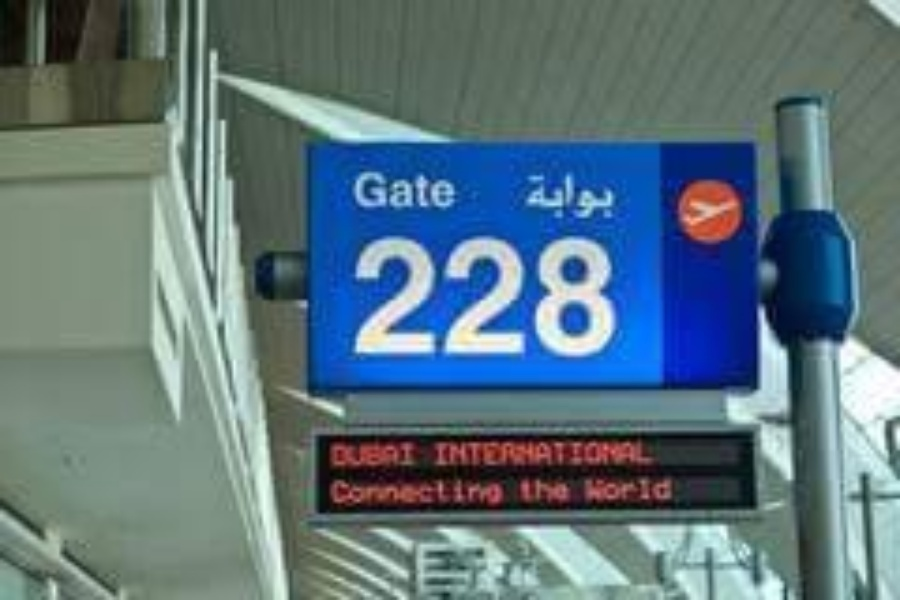text: (353, 233, 368, 361), (369, 233, 384, 361), (385, 233, 400, 361), (401, 233, 416, 361), (417, 233, 432, 361), (433, 233, 448, 361), (449, 233, 464, 361), (465, 233, 480, 361), (481, 233, 496, 361), (497, 233, 512, 361), (513, 233, 528, 361), (529, 233, 544, 361), (545, 233, 560, 361), (561, 233, 576, 361), (577, 233, 592, 361), (593, 233, 608, 361), (609, 233, 619, 361), (529, 169, 544, 222), (545, 169, 560, 222), (561, 169, 576, 222), (577, 169, 592, 222), (593, 169, 608, 222), (353, 169, 368, 211), (369, 169, 384, 211), (385, 169, 400, 211), (401, 169, 416, 211), (417, 169, 432, 211), (433, 169, 448, 211), (641, 436, 657, 473), (337, 473, 352, 511), (353, 473, 368, 511), (369, 473, 384, 511), (385, 473, 400, 511), (401, 473, 416, 511), (417, 473, 432, 511), (433, 473, 448, 511), (449, 473, 464, 511), (465, 473, 480, 511), (481, 473, 496, 511), (433, 436, 448, 473), (449, 436, 464, 473), (465, 436, 480, 473), (481, 436, 496, 473), (497, 436, 512, 473), (513, 436, 528, 473), (529, 436, 544, 473), (545, 436, 560, 473), (561, 436, 576, 473), (577, 436, 592, 473), (593, 436, 608, 473), (609, 436, 624, 473), (625, 436, 640, 473), (609, 169, 619, 222), (593, 473, 608, 507), (609, 473, 624, 507), (625, 473, 640, 507), (641, 473, 656, 507), (657, 473, 672, 507), (337, 439, 352, 469), (353, 439, 368, 469), (369, 439, 384, 469), (385, 439, 400, 469), (401, 439, 416, 469), (529, 477, 544, 507), (545, 477, 560, 507), (514, 477, 528, 507), (561, 477, 574, 507), (497, 473, 507, 511), (449, 169, 458, 211), (327, 473, 336, 511), (582, 473, 592, 507), (522, 169, 528, 222), (327, 439, 336, 469), (349, 169, 352, 211), (417, 439, 421, 469), (673, 473, 676, 507)
